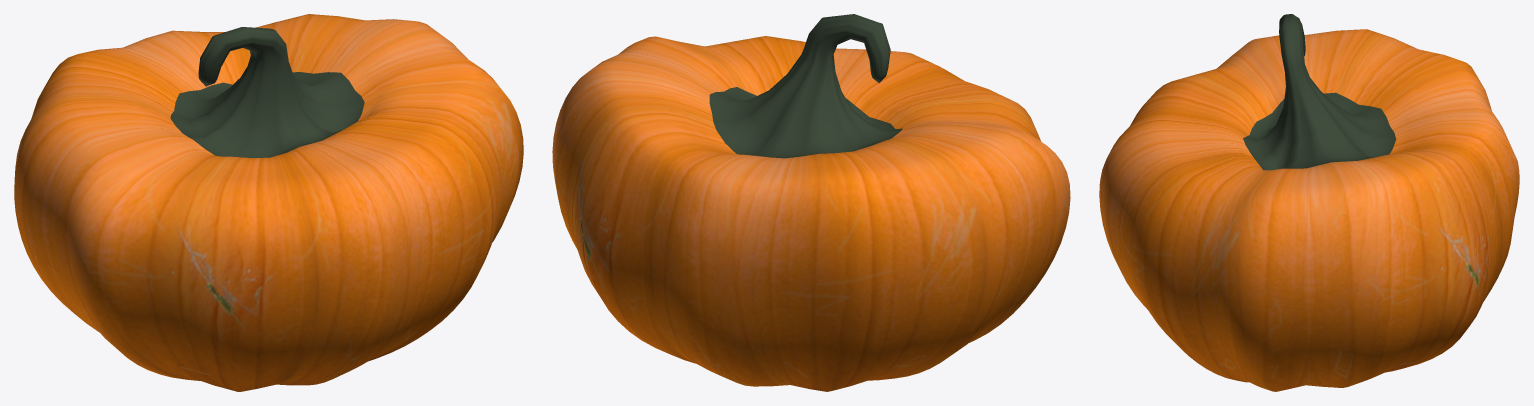
Rendered from PLAIN_PUMPKIN.fbx.
3 views of the same model, side by side, from view 1: azimuth 30°, elevation 25°; view 2: azimuth 150°, elevation 25°; view 3: azimuth 270°, elevation 25° (orthographic). The views are drawn at different scales.
Parts seen in each view (by area): view 1: pSphere2; view 2: pSphere2; view 3: pSphere2.
Boxes of the visible parts, <box> form: pSphere2: <box>14,14,523,391</box>; pSphere2: <box>552,14,1070,391</box>; pSphere2: <box>1099,14,1519,391</box>.
Size of the model in its own units: 0.6887 by 0.5179 by 0.6072.
